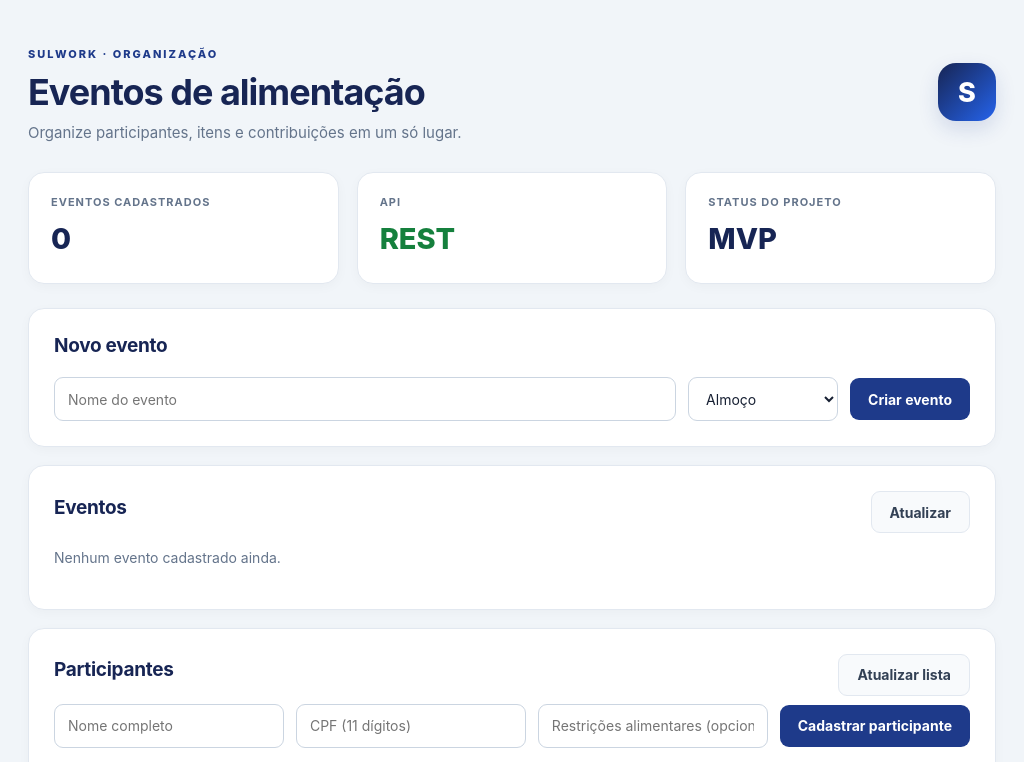
Sulwork frontend › exibe mensagem quando a API rejeita o cadastro
In the field labelled "Nome do evento": (365, 399) 54,377 -> 676,421, type "Evento com erro"
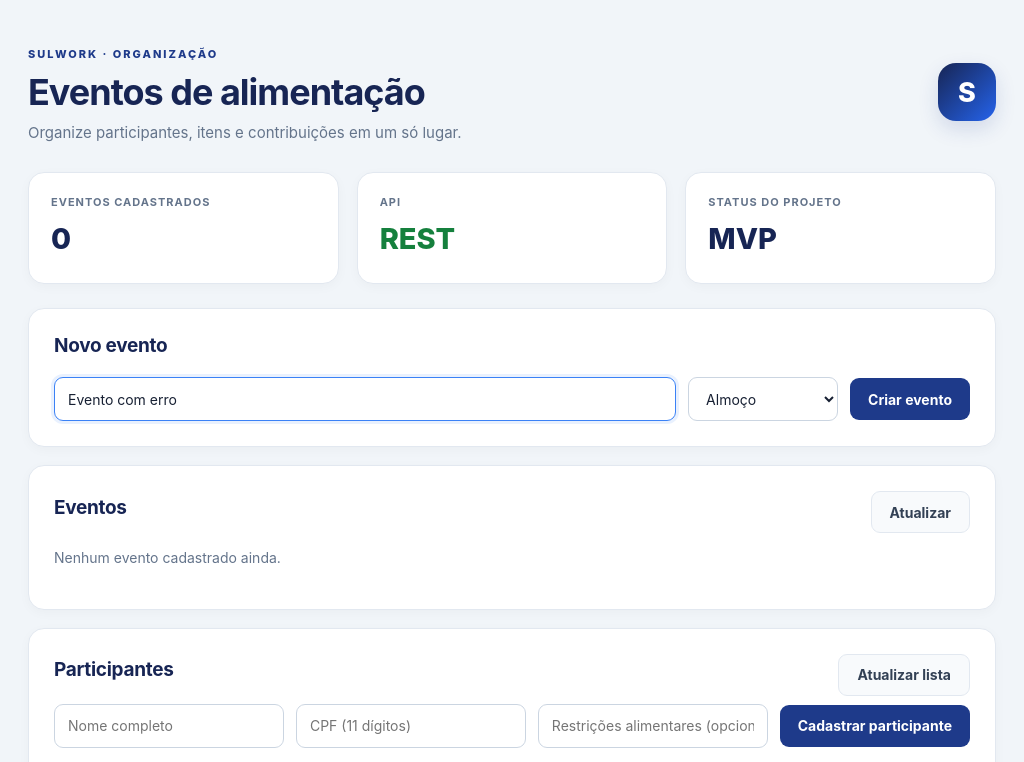
Click the button "Criar evento": (910, 399) 850,378 -> 970,420
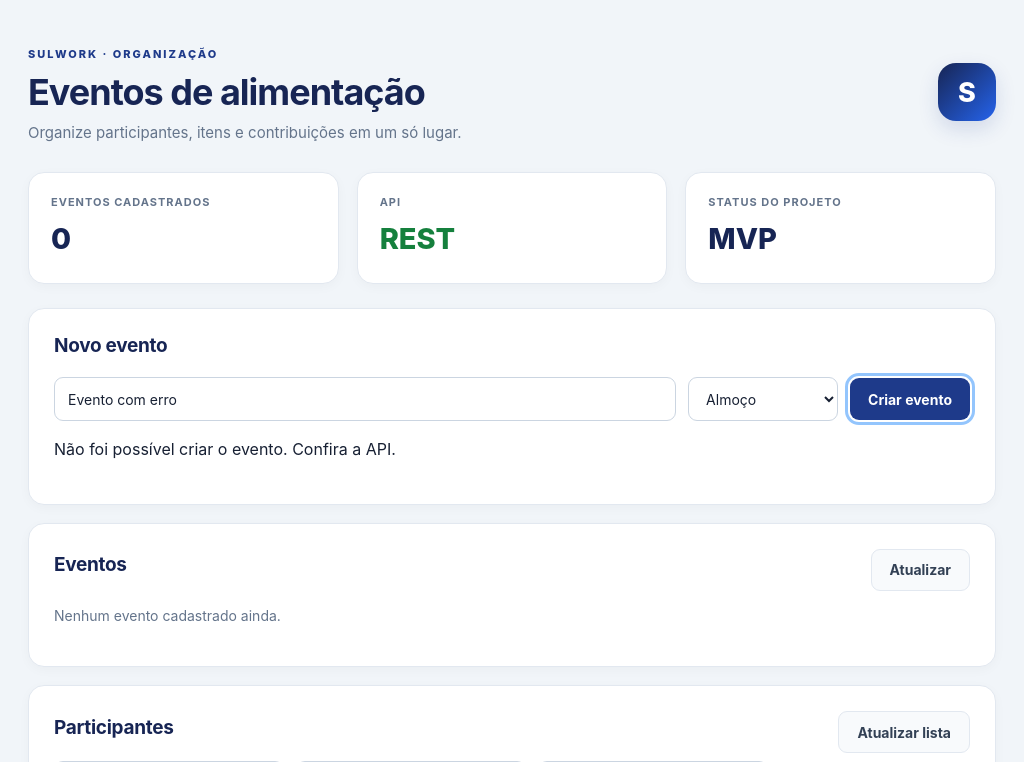
Now the text "Não foi possível criar o evento. Confira a API." is shown, box 54,439 -> 396,459
